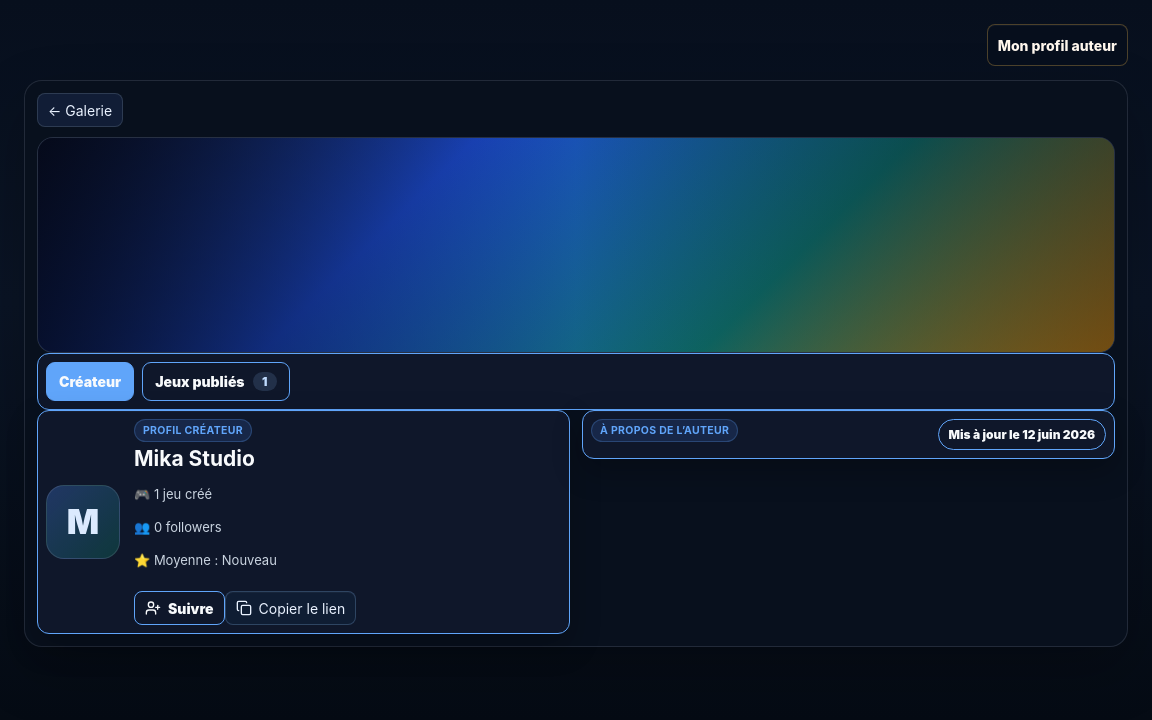
Test case: author profile media › permet a un compte de suivre un createur public
Expected: the text "👥 0 followers" is shown, x1=134 y1=519 x2=222 y2=535
What coordinates should you click on to do the following:
click the button "Suivre"
I would click on:
 (179, 608)
Its box is x1=134 y1=591 x2=224 y2=625.
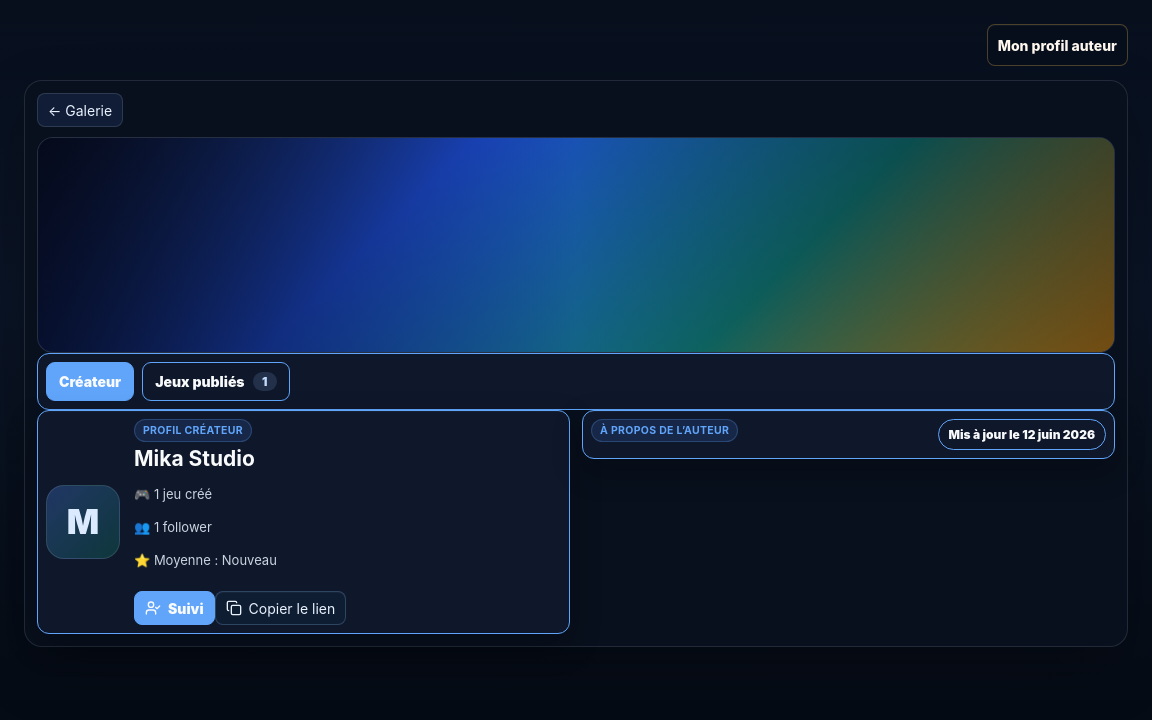
Now the text "👥 1 follower" is shown, box x1=134 y1=519 x2=212 y2=535
Now the button "Suivi" is shown, box x1=134 y1=591 x2=214 y2=625
